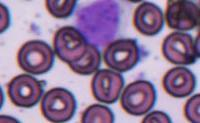L: (75, 0, 122, 47)
